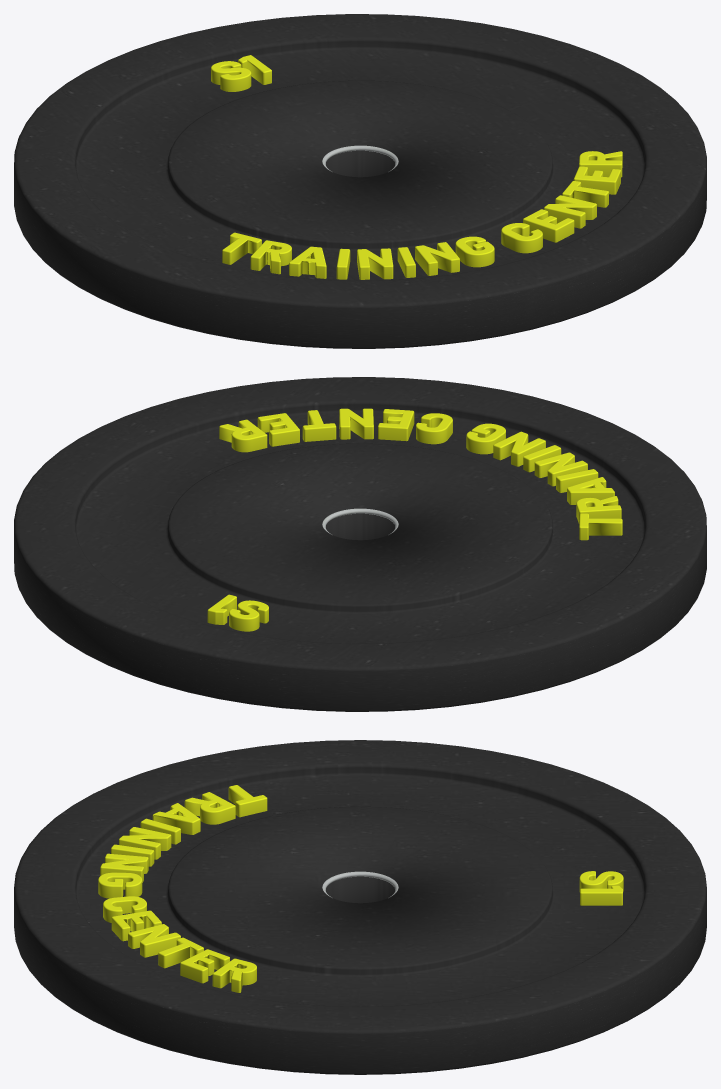
The model's file is Piattos1.glb.
The picture shows the model from 3 angles, top to bottom: view 1: azimuth 30°, elevation 25°; view 2: azimuth 150°, elevation 25°; view 3: azimuth 270°, elevation 25°; orthographic projection.
Visible parts, largest first — view 1: Piatto bilanciere.001, Text.002, Text.003; view 2: Piatto bilanciere.001, Text.002, Text.003; view 3: Piatto bilanciere.001, Text.002, Text.003.
Boxes of the visible parts, box(x1,y1,x2,y2) form: Piatto bilanciere.001: box(14, 14, 706, 348); Text.002: box(222, 151, 622, 279); Text.003: box(211, 55, 271, 91); Piatto bilanciere.001: box(14, 377, 706, 711); Text.002: box(219, 408, 622, 540); Text.003: box(207, 594, 268, 631); Piatto bilanciere.001: box(14, 740, 706, 1074); Text.002: box(98, 785, 267, 992); Text.003: box(579, 871, 623, 905).
Size of the model in its own units: 0.45 by 0.0343 by 0.45.
Materials: 3 (2 with a texture image).
